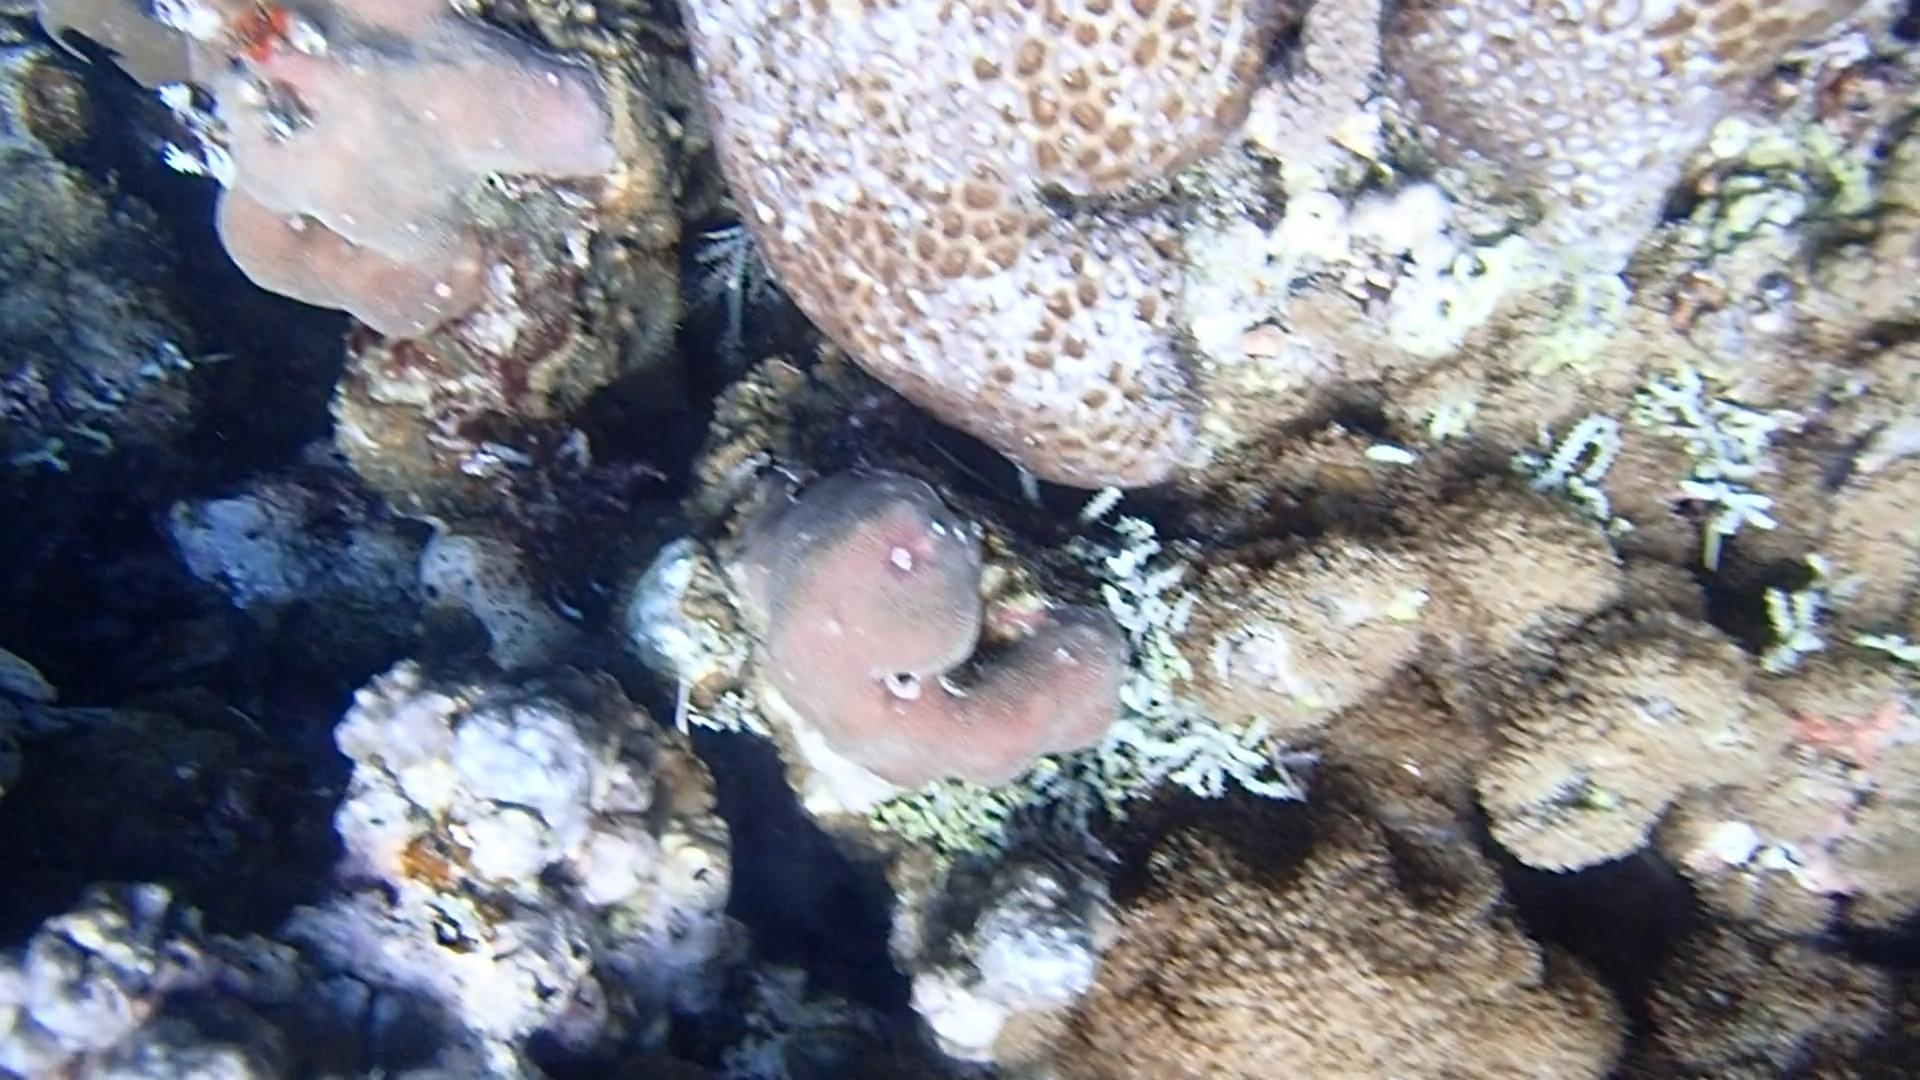Dark Fish: (47, 21, 158, 99)
